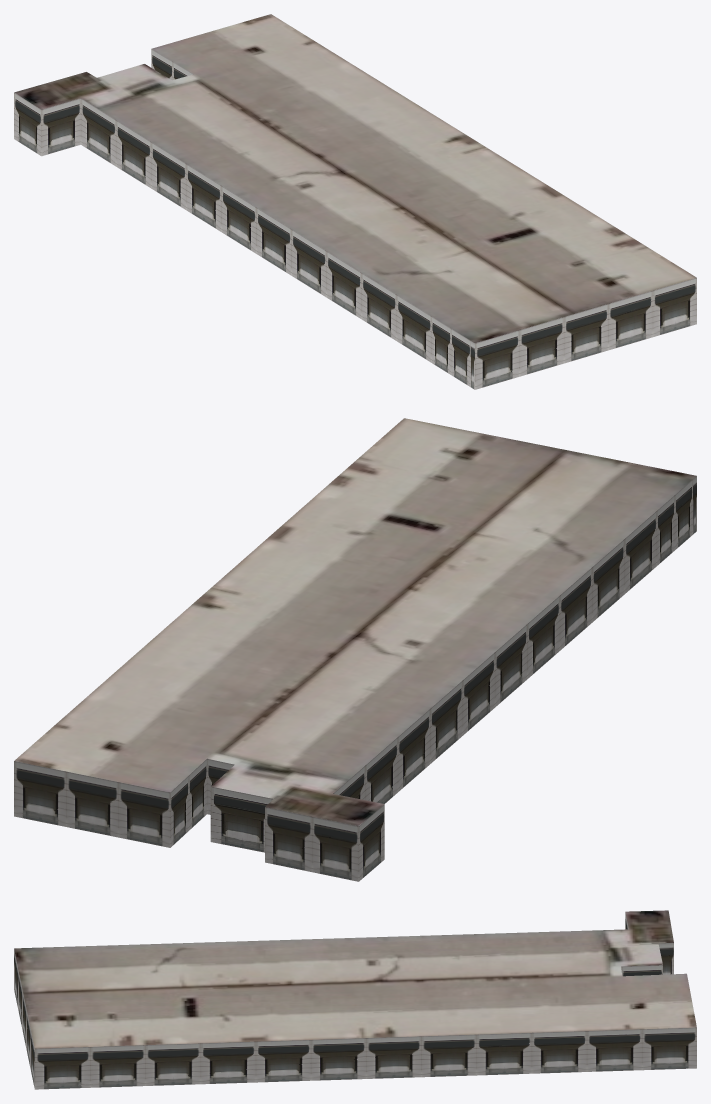
3 renders of one model, top to bottom at view 1: azimuth 30°, elevation 25°; view 2: azimuth 150°, elevation 25°; view 3: azimuth 270°, elevation 25°, orthographic. The views are drawn at different scales.
Parts seen in each view (by area): view 1: SketchUp (×7); view 2: SketchUp (×8); view 3: SketchUp (×5).
Boxes of the visible parts, x1,y1,x2,y2 form: SketchUp (×7): [14, 14, 696, 389]; SketchUp (×8): [14, 418, 696, 881]; SketchUp (×5): [14, 910, 696, 1089].
Size of the model in its own units: 34.22 by 71.41 by 4.72.
2 materials, 2 textured.
